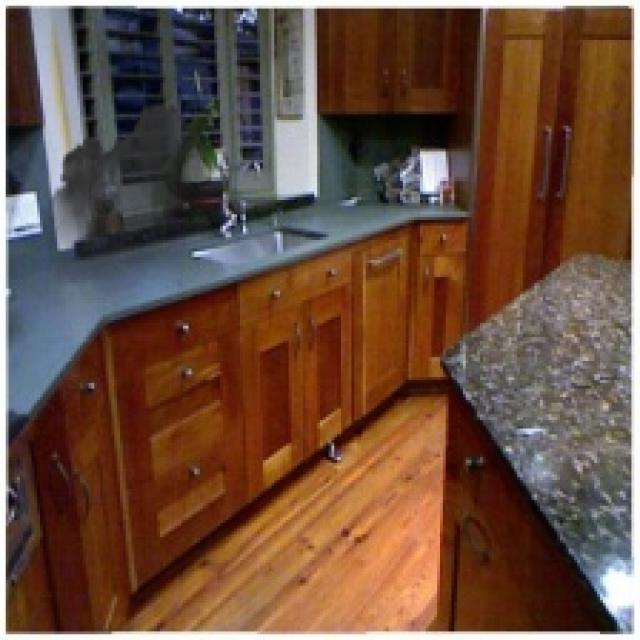smoke: (43, 94, 248, 300)
